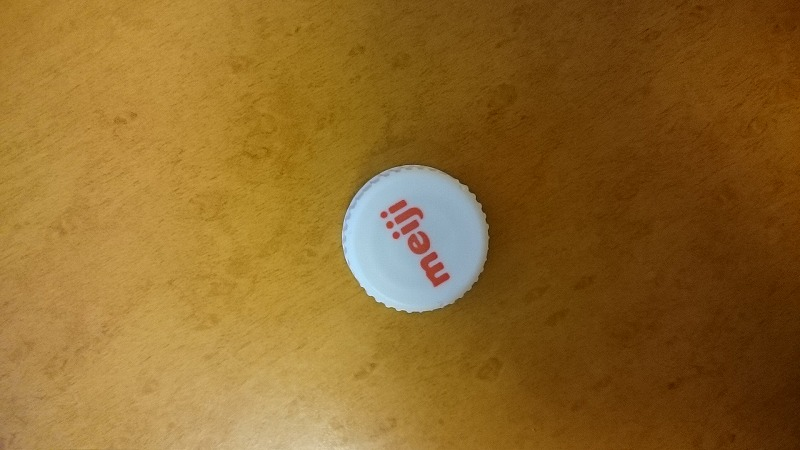B: (338, 153, 501, 322)
